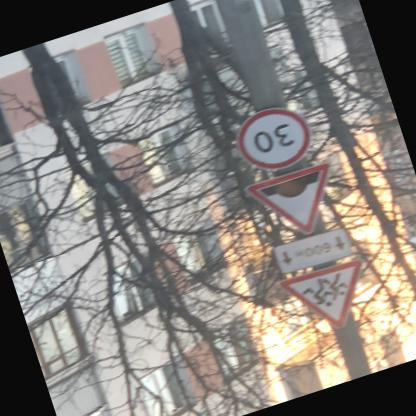speedlimit: (234, 98, 321, 180)
